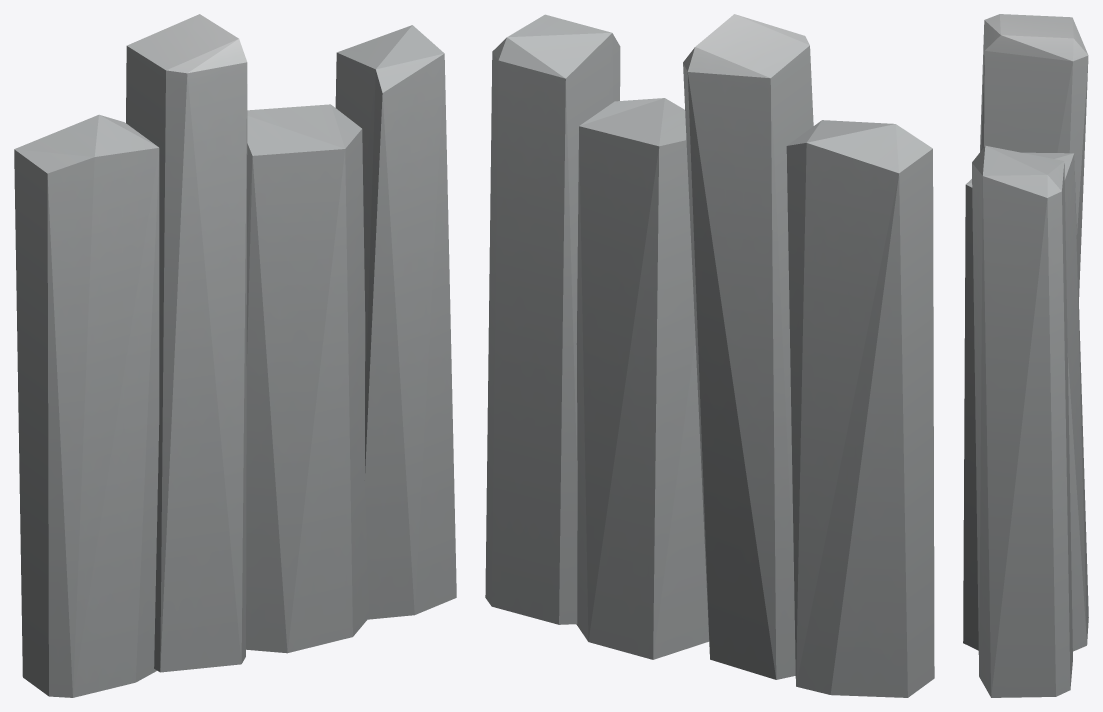
Rendered from rock_3.fbx.
3 views of the same model, side by side, from view 1: azimuth 30°, elevation 25°; view 2: azimuth 150°, elevation 25°; view 3: azimuth 270°, elevation 25° (orthographic). The views are drawn at different scales.
Parts seen in each view (by area): view 1: rock_3; view 2: rock_3; view 3: rock_3.
Part boxes in pixels (x1,y1,x2,y2): rock_3: [14, 14, 456, 697]; rock_3: [485, 14, 934, 697]; rock_3: [963, 14, 1088, 697].
Size of the model in its own units: 3.5 by 5.02 by 1.
Materials: 1 (1 with a texture image).
